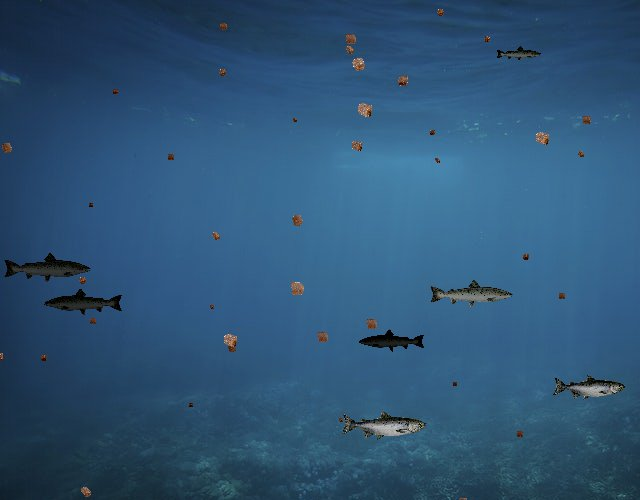Fish: (2, 251, 92, 283), (428, 278, 514, 309), (340, 410, 426, 441), (44, 287, 125, 316), (552, 375, 625, 401), (358, 328, 426, 353), (495, 45, 542, 62)
Pellet: (75, 481, 96, 500), (577, 111, 596, 130), (340, 41, 359, 60), (518, 250, 532, 264), (426, 127, 439, 140), (109, 86, 121, 98), (206, 302, 216, 312)
